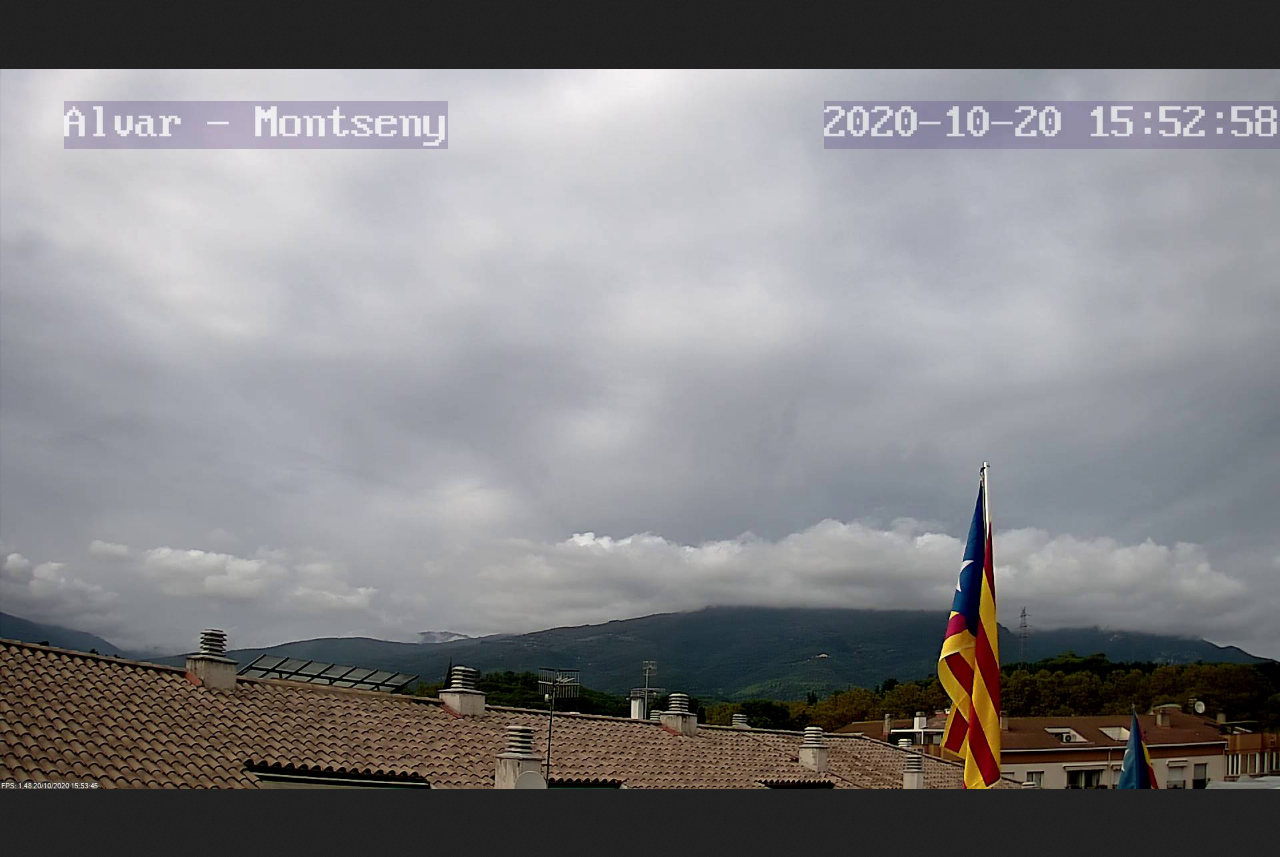no: (932, 474, 1005, 789)
